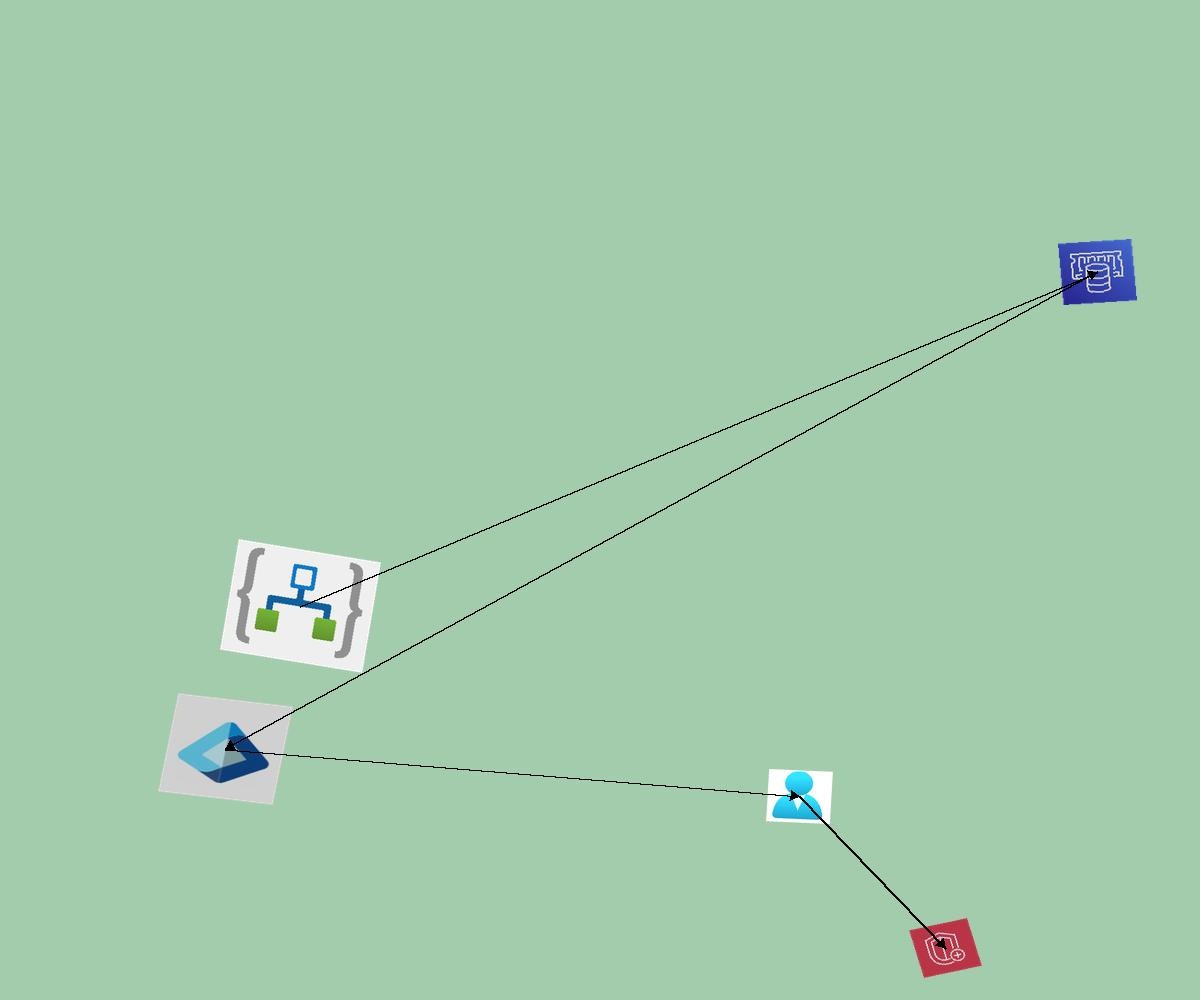AWS-ElastiCache: (1058, 239, 1137, 305)
AWS-Shield: (909, 918, 982, 978)
Azure_integration-204-Logic-Apps: (220, 539, 381, 673)
Azure_microsoft_entra: (158, 693, 293, 805)
Azure_users: (766, 769, 833, 824)
